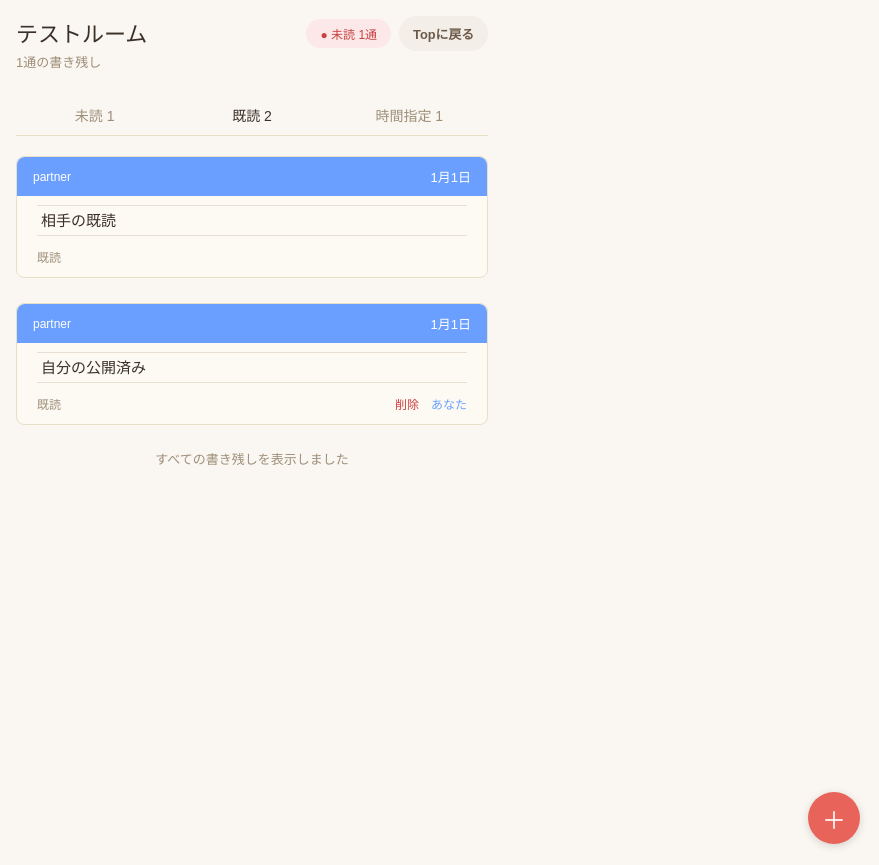
Scenario: PostList のタブ振り分け › 時間指定タブには自分の未公開投稿が封筒で出る（削除ボタンあり）
This screenshot has width=879, height=865.
Step 1. Click the button "時間指定 1" → [409, 115], box [331,95,488,135]
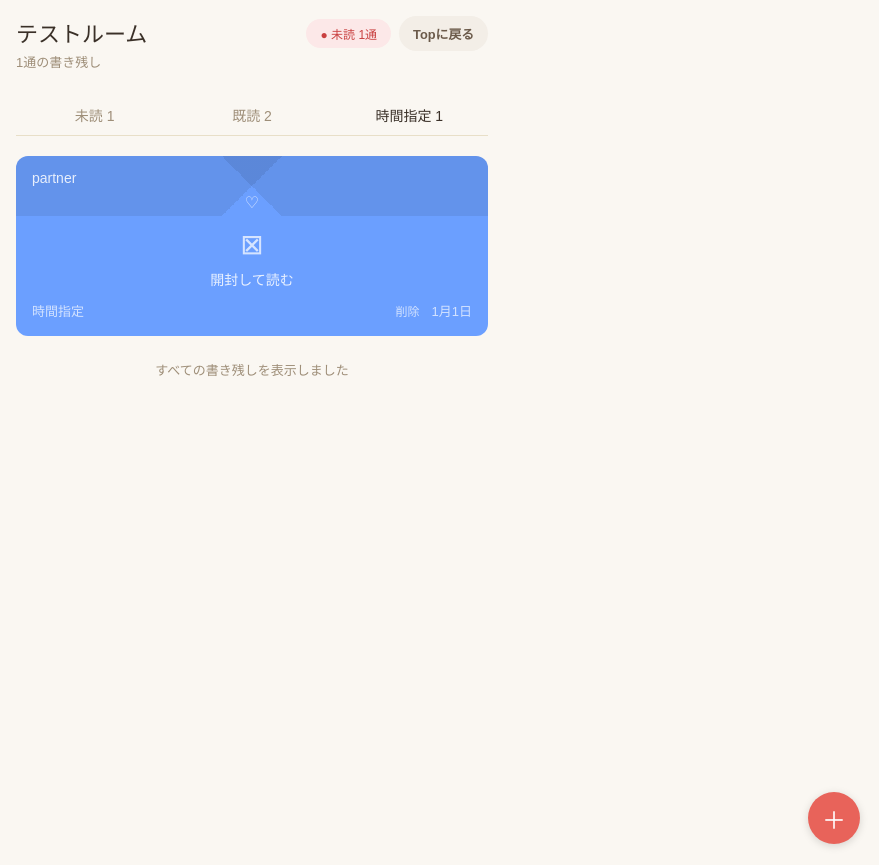
Expected: the button "削除" is shown, [396,302,420,319]
Result: the text "開封して読む" is shown once at [210,269,294,289]
